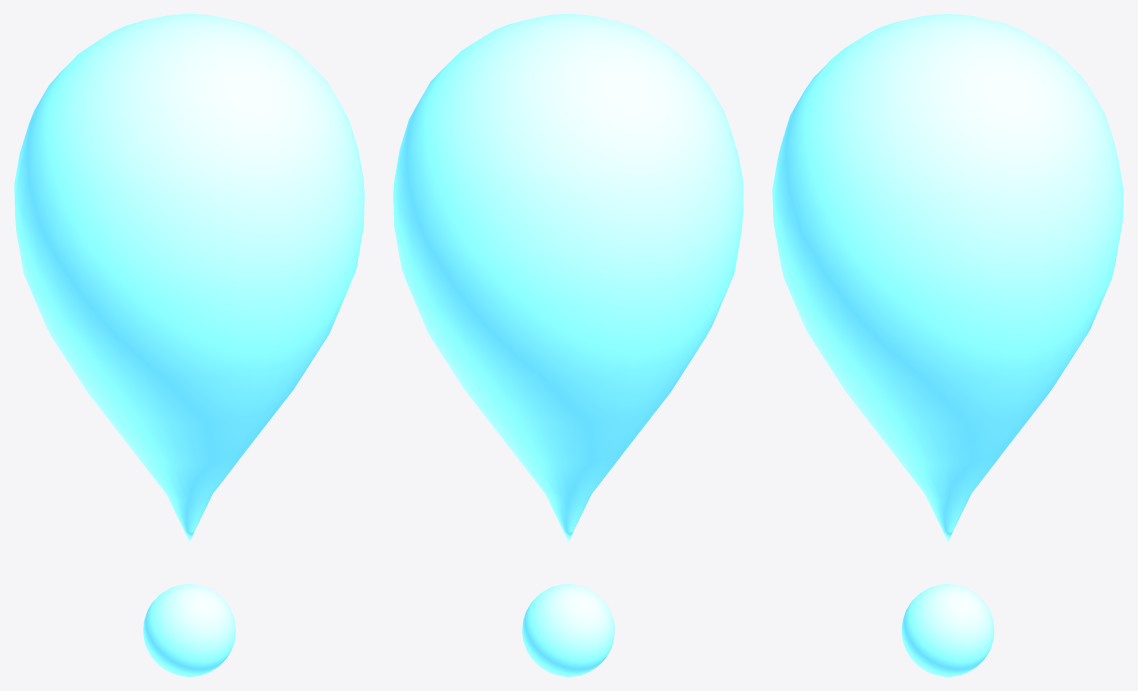
The model's file is water.glb.
3 renders of one model, left to right at view 1: azimuth 30°, elevation 25°; view 2: azimuth 150°, elevation 25°; view 3: azimuth 270°, elevation 25°, orthographic.
Visible parts, largest first — view 1: Sphere.001; view 2: Sphere.001; view 3: Sphere.001.
Part boxes in pixels (left/top/right/bottom): Sphere.001: left=14, top=14, right=364, bottom=676; Sphere.001: left=393, top=14, right=743, bottom=676; Sphere.001: left=772, top=14, right=1123, bottom=676.
Bounding box in the file's own units: 2 × 4.04 × 2.
